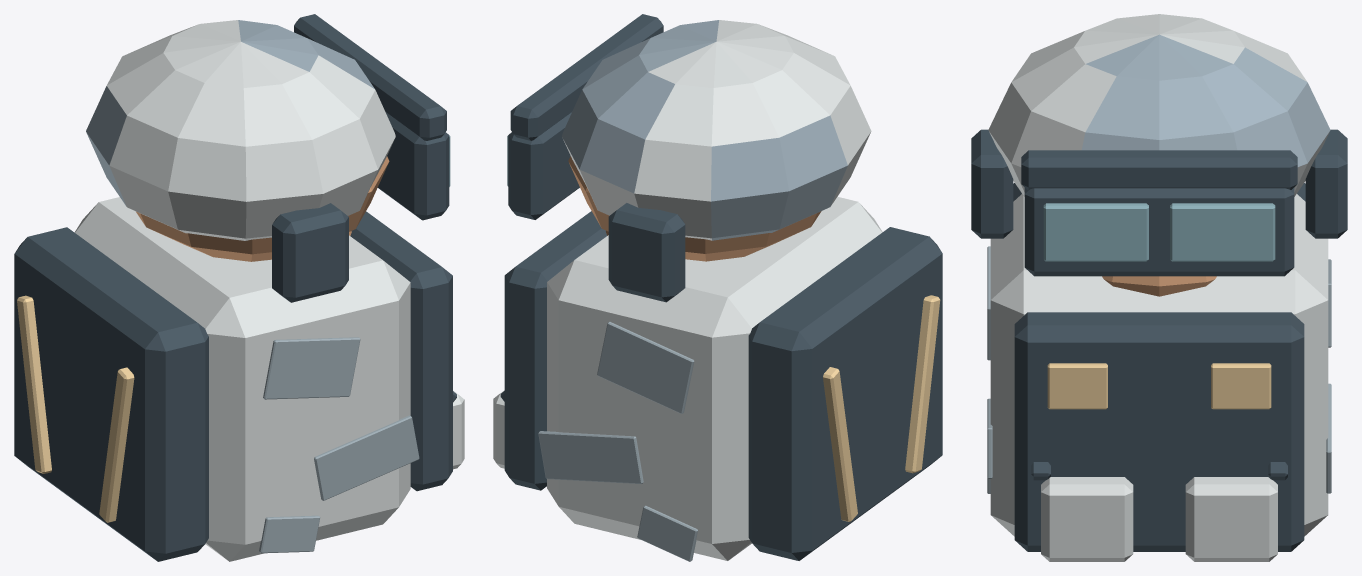
File: desert-runner.polar-camo.glb
3 renders of one model, left to right at view 1: azimuth 30°, elevation 25°; view 2: azimuth 150°, elevation 25°; view 3: azimuth 270°, elevation 25°, orthographic. The views are drawn at different scales.
Parts seen in each view (by area): view 1: desert-runner_polar-camo__main__torso_finish_485863_0.03, desert-runner_polar-camo__main__torso_finish_e0e5e5_0.03, desert-runner_polar-camo__main__head_finish_e0e5e5_0.03|fini, desert-runner_polar-camo__main__head_finish_485863_0.03, desert-runner_polar-camo__main__torso_finish_a0afb7_0.03, desert-runner_polar-camo__main__torso_finish_f0d3a1_0.03, desert-runner_polar-camo__main__head_finish_d3a079_0.03; view 2: desert-runner_polar-camo__main__torso_finish_485863_0.03, desert-runner_polar-camo__main__torso_finish_e0e5e5_0.03, desert-runner_polar-camo__main__head_finish_e0e5e5_0.03|fini, desert-runner_polar-camo__main__head_finish_485863_0.03, desert-runner_polar-camo__main__torso_finish_a0afb7_0.03, desert-runner_polar-camo__main__torso_finish_f0d3a1_0.03, desert-runner_polar-camo__main__head_finish_d3a079_0.03; view 3: desert-runner_polar-camo__main__torso_finish_485863_0.03, desert-runner_polar-camo__main__torso_finish_e0e5e5_0.03, desert-runner_polar-camo__main__head_finish_e0e5e5_0.03|fini, desert-runner_polar-camo__main__head_finish_485863_0.03, desert-runner_polar-camo__main__head_finish_91b6c0_0.03, desert-runner_polar-camo__main__torso_finish_f0d3a1_0.03, desert-runner_polar-camo__main__torso_finish_a0afb7_0.03, desert-runner_polar-camo__main__head_finish_d3a079_0.03.
Boxes of the visible parts, x1,y1,x2,y2 form: desert-runner_polar-camo__main__torso_finish_485863_0.03: [14, 211, 456, 561]; desert-runner_polar-camo__main__torso_finish_e0e5e5_0.03: [74, 197, 464, 561]; desert-runner_polar-camo__main__head_finish_e0e5e5_0.03|fini: [86, 20, 395, 240]; desert-runner_polar-camo__main__head_finish_485863_0.03: [272, 14, 449, 302]; desert-runner_polar-camo__main__torso_finish_a0afb7_0.03: [259, 337, 419, 553]; desert-runner_polar-camo__main__torso_finish_f0d3a1_0.03: [17, 295, 134, 522]; desert-runner_polar-camo__main__head_finish_d3a079_0.03: [136, 156, 389, 261]; desert-runner_polar-camo__main__torso_finish_485863_0.03: [500, 211, 942, 560]; desert-runner_polar-camo__main__torso_finish_e0e5e5_0.03: [493, 196, 882, 560]; desert-runner_polar-camo__main__head_finish_e0e5e5_0.03|fini: [562, 20, 871, 240]; desert-runner_polar-camo__main__head_finish_485863_0.03: [508, 14, 685, 302]; desert-runner_polar-camo__main__torso_finish_a0afb7_0.03: [538, 321, 697, 561]; desert-runner_polar-camo__main__torso_finish_f0d3a1_0.03: [823, 295, 940, 521]; desert-runner_polar-camo__main__head_finish_d3a079_0.03: [568, 156, 821, 261]; desert-runner_polar-camo__main__torso_finish_485863_0.03: [1013, 183, 1305, 551]; desert-runner_polar-camo__main__torso_finish_e0e5e5_0.03: [990, 194, 1328, 561]; desert-runner_polar-camo__main__head_finish_e0e5e5_0.03|fini: [988, 14, 1330, 196]; desert-runner_polar-camo__main__head_finish_485863_0.03: [971, 129, 1347, 276]; desert-runner_polar-camo__main__head_finish_91b6c0_0.03: [1043, 203, 1275, 261]; desert-runner_polar-camo__main__torso_finish_f0d3a1_0.03: [1047, 363, 1271, 409]; desert-runner_polar-camo__main__torso_finish_a0afb7_0.03: [987, 246, 1331, 493]; desert-runner_polar-camo__main__head_finish_d3a079_0.03: [1102, 276, 1216, 296].
Bounding box in the file's own units: 31.1 × 39.5 × 28.6.
